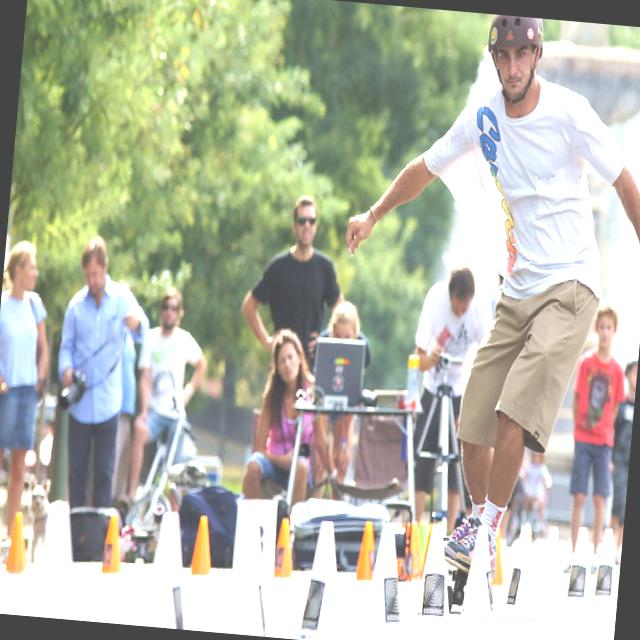Vehicle: (115, 361, 251, 569)
